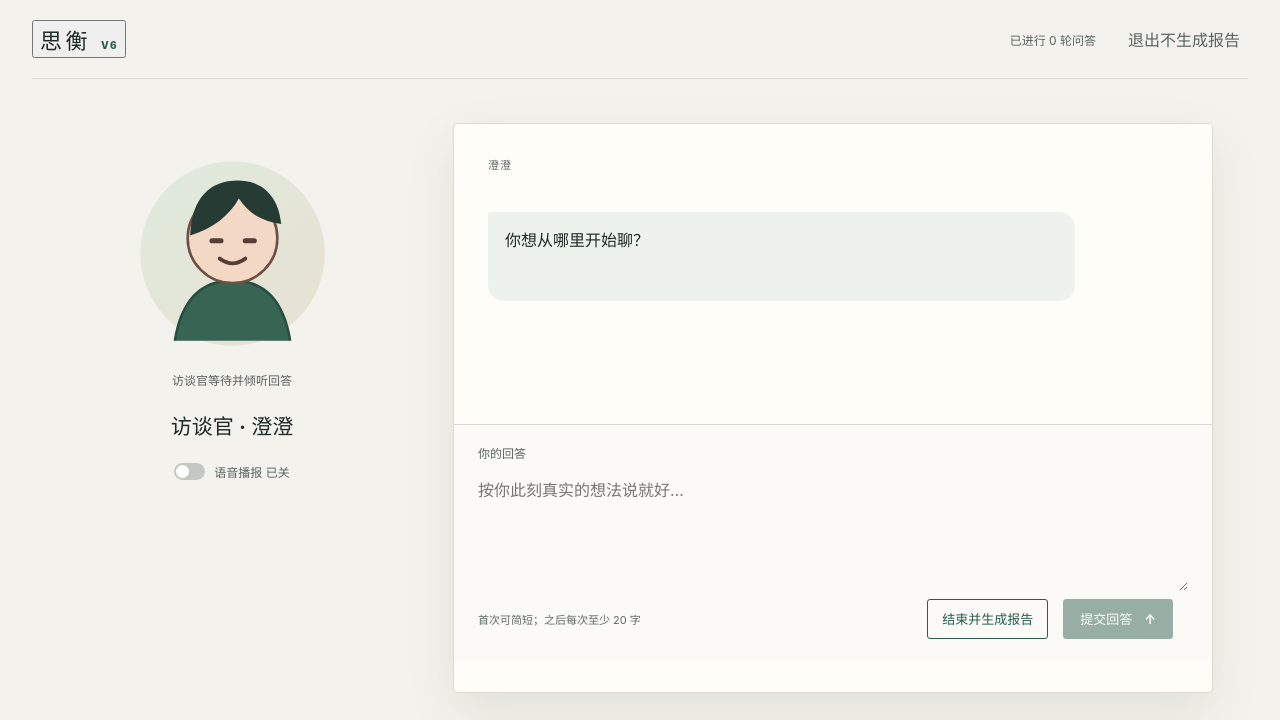
it: InterviewView › recommends continuing when evidence is insufficient without exposing scoring details
Click the button with class "compact-action": (988, 619) x1=927 y1=599 x2=1048 y2=639
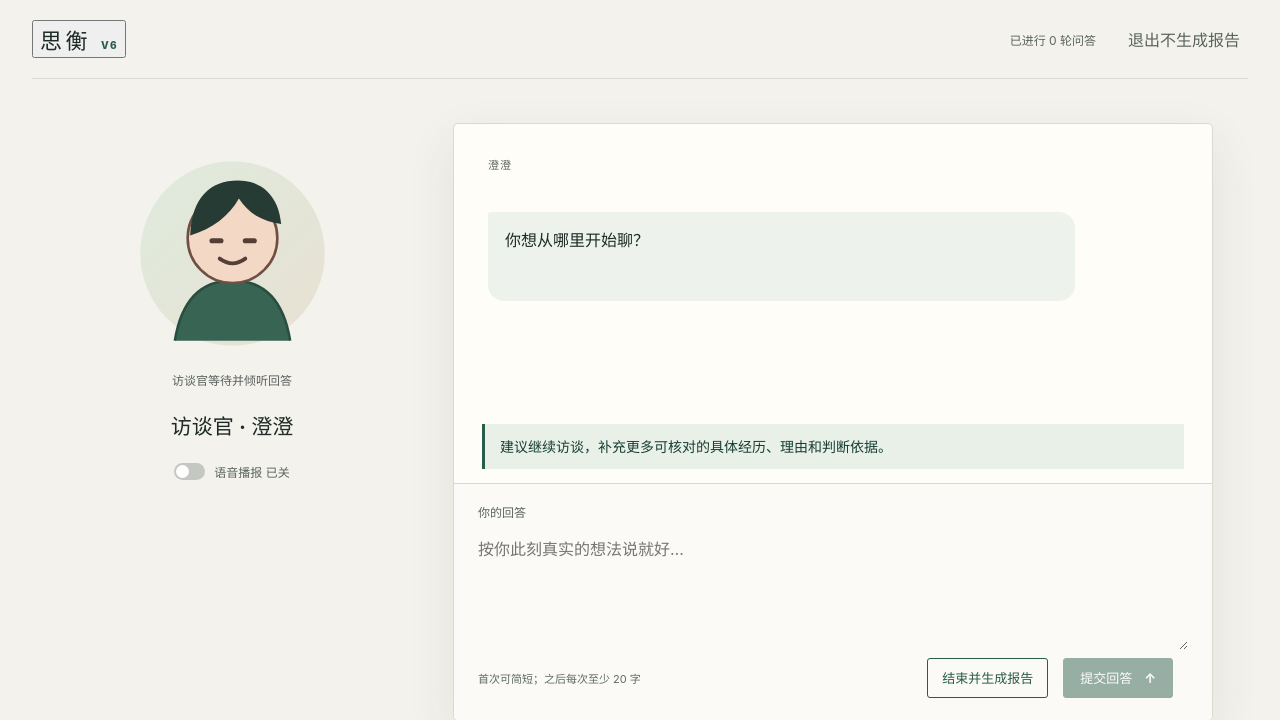
Check: the text "建议继续访谈" is shown, box x1=500 y1=438 x2=892 y2=455
